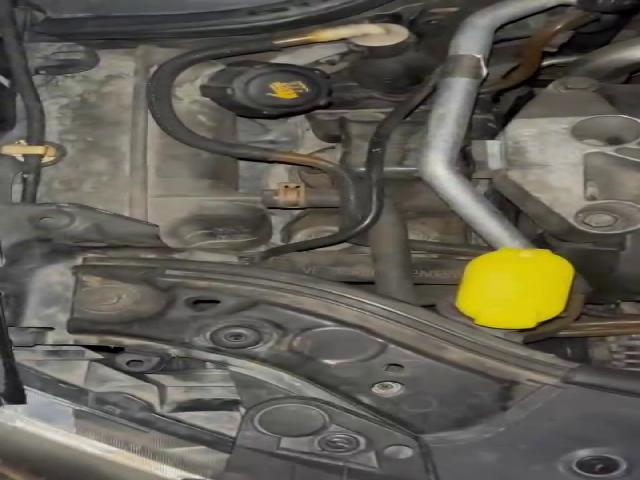antifreeze_tank: (35, 45, 269, 248), (172, 60, 329, 141)
